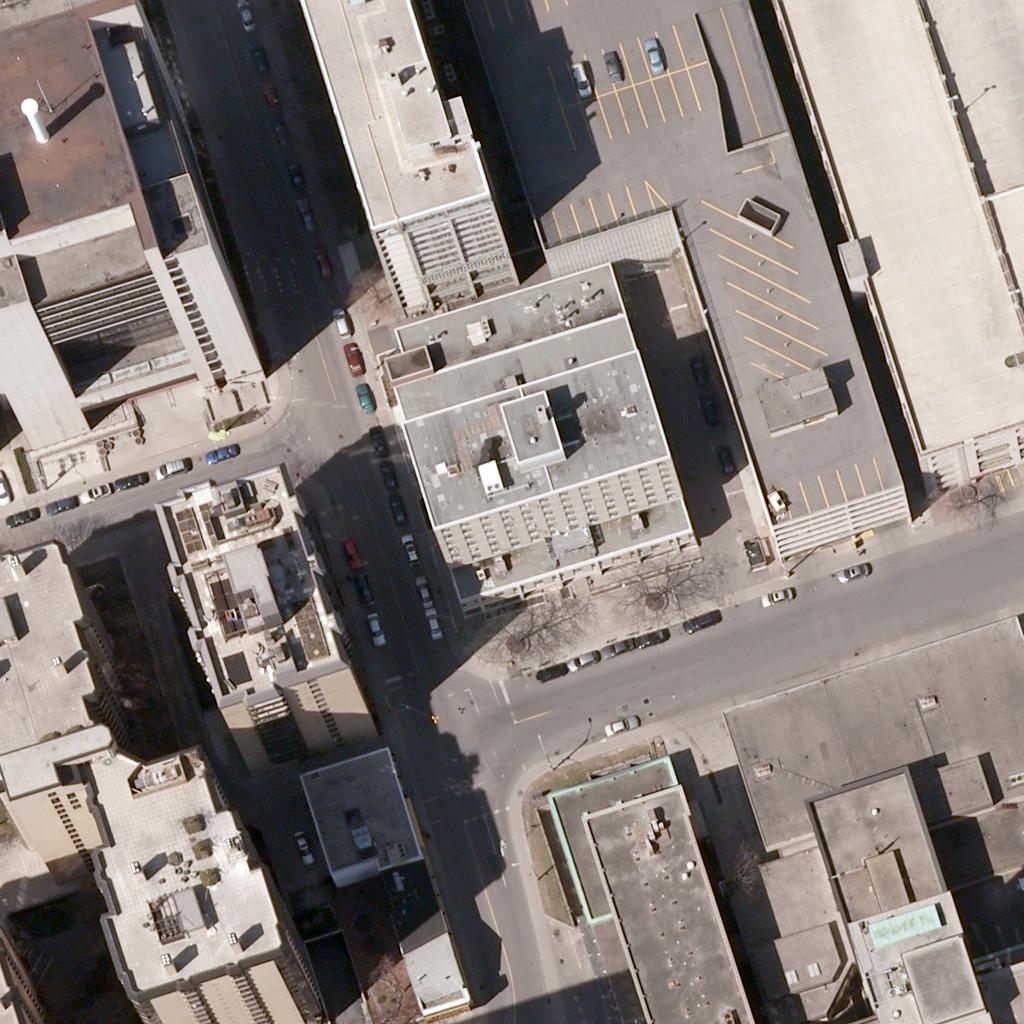car: (636, 39, 670, 73), (241, 42, 275, 76), (593, 46, 627, 80), (560, 57, 594, 91), (251, 78, 285, 112), (261, 116, 295, 150), (278, 155, 312, 189), (290, 199, 324, 233), (306, 246, 340, 280), (324, 307, 358, 341), (336, 343, 370, 377), (682, 352, 716, 386), (346, 382, 380, 416), (692, 394, 726, 428), (361, 425, 395, 459), (203, 434, 237, 468), (710, 443, 744, 477), (156, 450, 190, 484), (370, 457, 404, 491), (115, 461, 149, 495), (78, 474, 112, 508), (44, 486, 78, 520), (380, 495, 414, 529), (5, 497, 39, 531), (331, 531, 365, 565), (394, 537, 428, 571), (834, 553, 868, 587), (347, 573, 381, 607), (406, 576, 440, 610), (758, 577, 792, 611), (687, 601, 721, 635), (416, 607, 450, 641), (357, 608, 391, 642), (634, 619, 668, 653), (600, 631, 634, 665), (566, 642, 600, 676), (533, 655, 567, 689), (600, 707, 634, 741), (285, 828, 319, 862), (228, 0, 262, 32), (0, 469, 16, 503)
